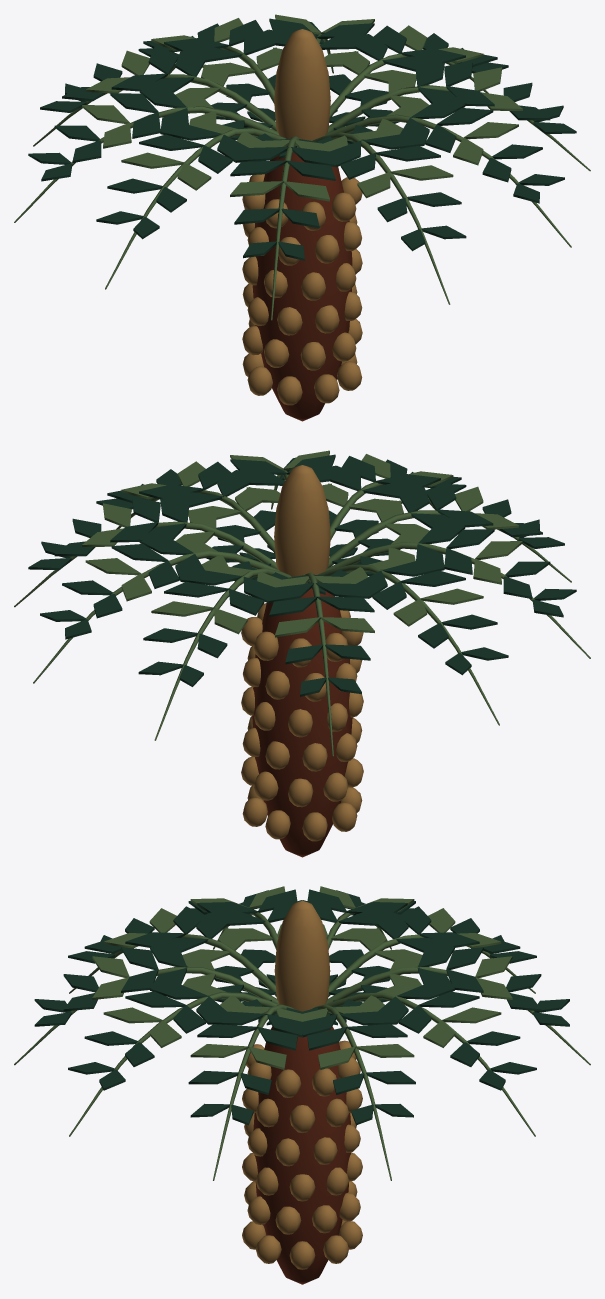
Rendered from Cycad.fbx.
3 views of the same model, one above another, from view 1: azimuth 30°, elevation 25°; view 2: azimuth 150°, elevation 25°; view 3: azimuth 270°, elevation 25° (orthographic). The views are drawn at different scales.
Parts seen in each view (by area): view 1: Cycad; view 2: Cycad; view 3: Cycad.
Part boxes in pixels (x1,y1,x2,y2): Cycad: (14,14,590,421); Cycad: (14,450,590,857); Cycad: (14,886,590,1284).
Size of the model in its own units: 277 by 213 by 291.
